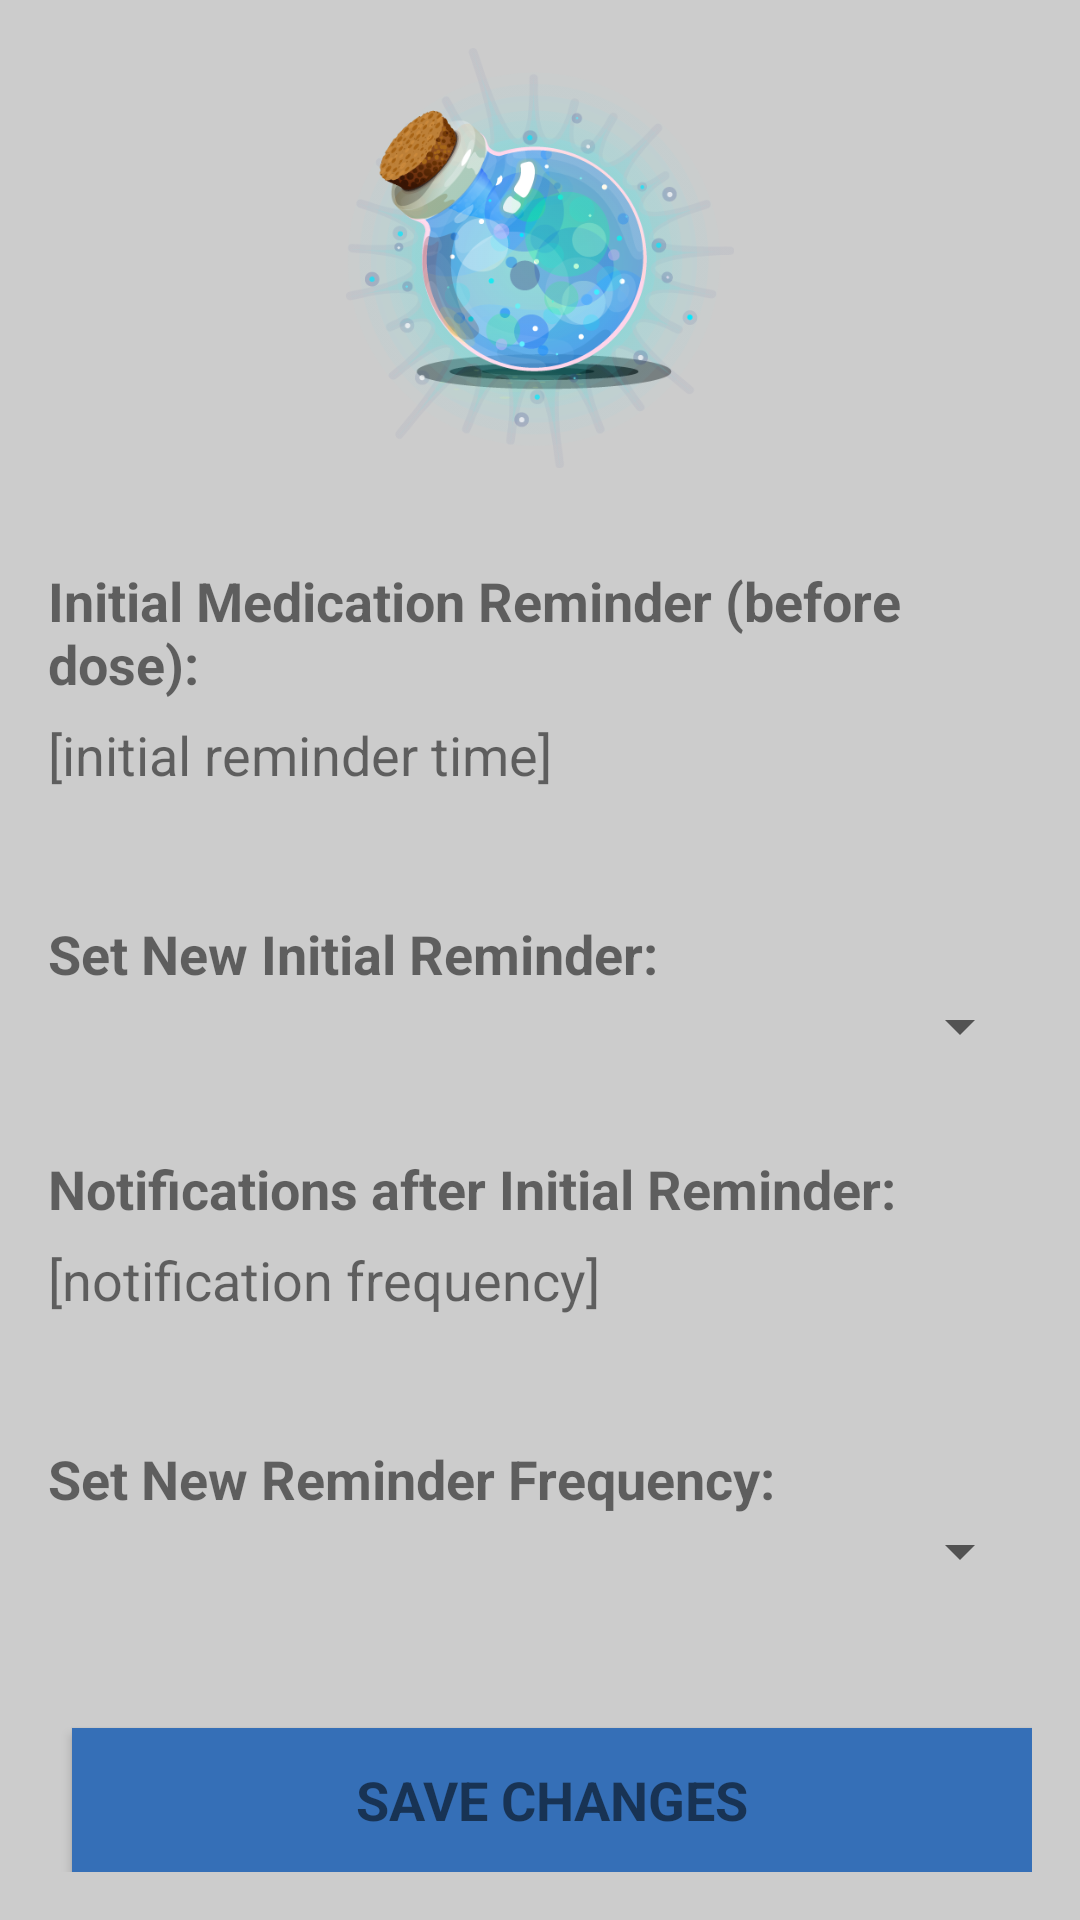

Where to tap for icons on this 1080px×1920px app screen, as point (x, y):
iaso bottle: point (530, 262)
